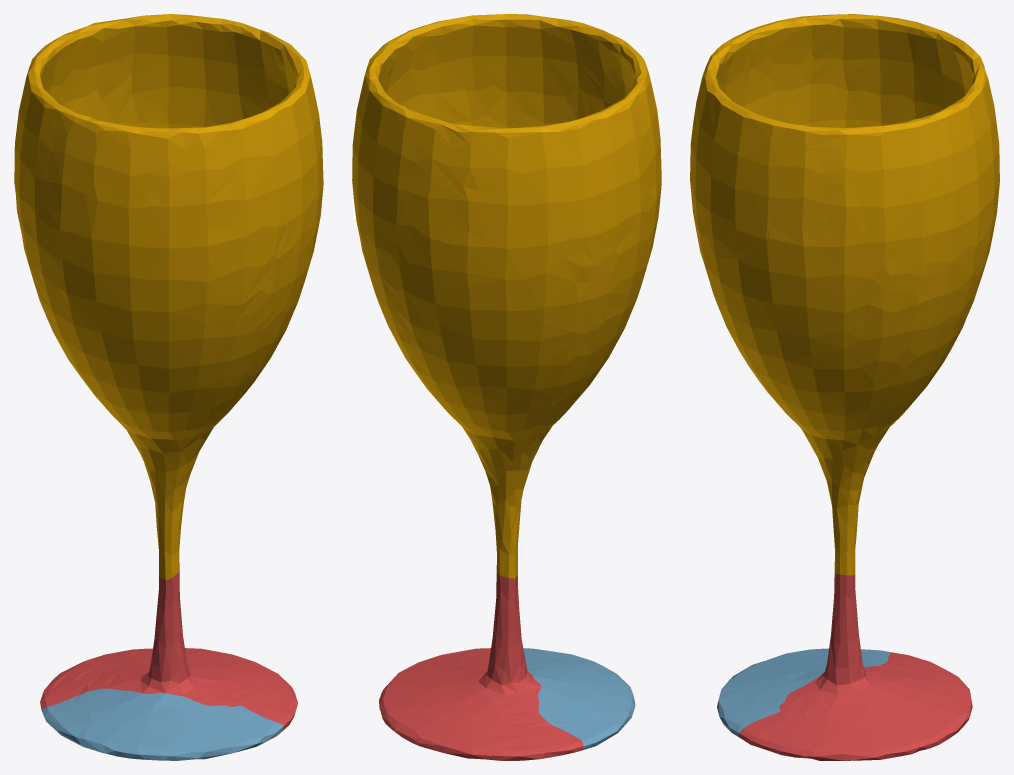
Rendered from fractured_43_3pcs.glb.
3 renders of one model, left to right at view 1: azimuth 30°, elevation 25°; view 2: azimuth 150°, elevation 25°; view 3: azimuth 270°, elevation 25°, orthographic.
Visible parts, largest first — view 1: piece_0.obj, piece_1.obj, piece_2.obj; view 2: piece_0.obj, piece_1.obj, piece_2.obj; view 3: piece_0.obj, piece_1.obj, piece_2.obj.
Part boxes in pixels (<box>): piece_0.obj: <box>14,14,323,580</box>; piece_1.obj: <box>40,570,297,730</box>; piece_2.obj: <box>42,688,283,760</box>; piece_0.obj: <box>352,14,661,578</box>; piece_1.obj: <box>379,573,583,760</box>; piece_2.obj: <box>523,648,635,749</box>; piece_0.obj: <box>690,14,999,575</box>; piece_1.obj: <box>738,573,972,760</box>; piece_2.obj: <box>717,648,891,736</box>.
Size of the model in its own units: 0.4397 by 1 by 0.4397.
